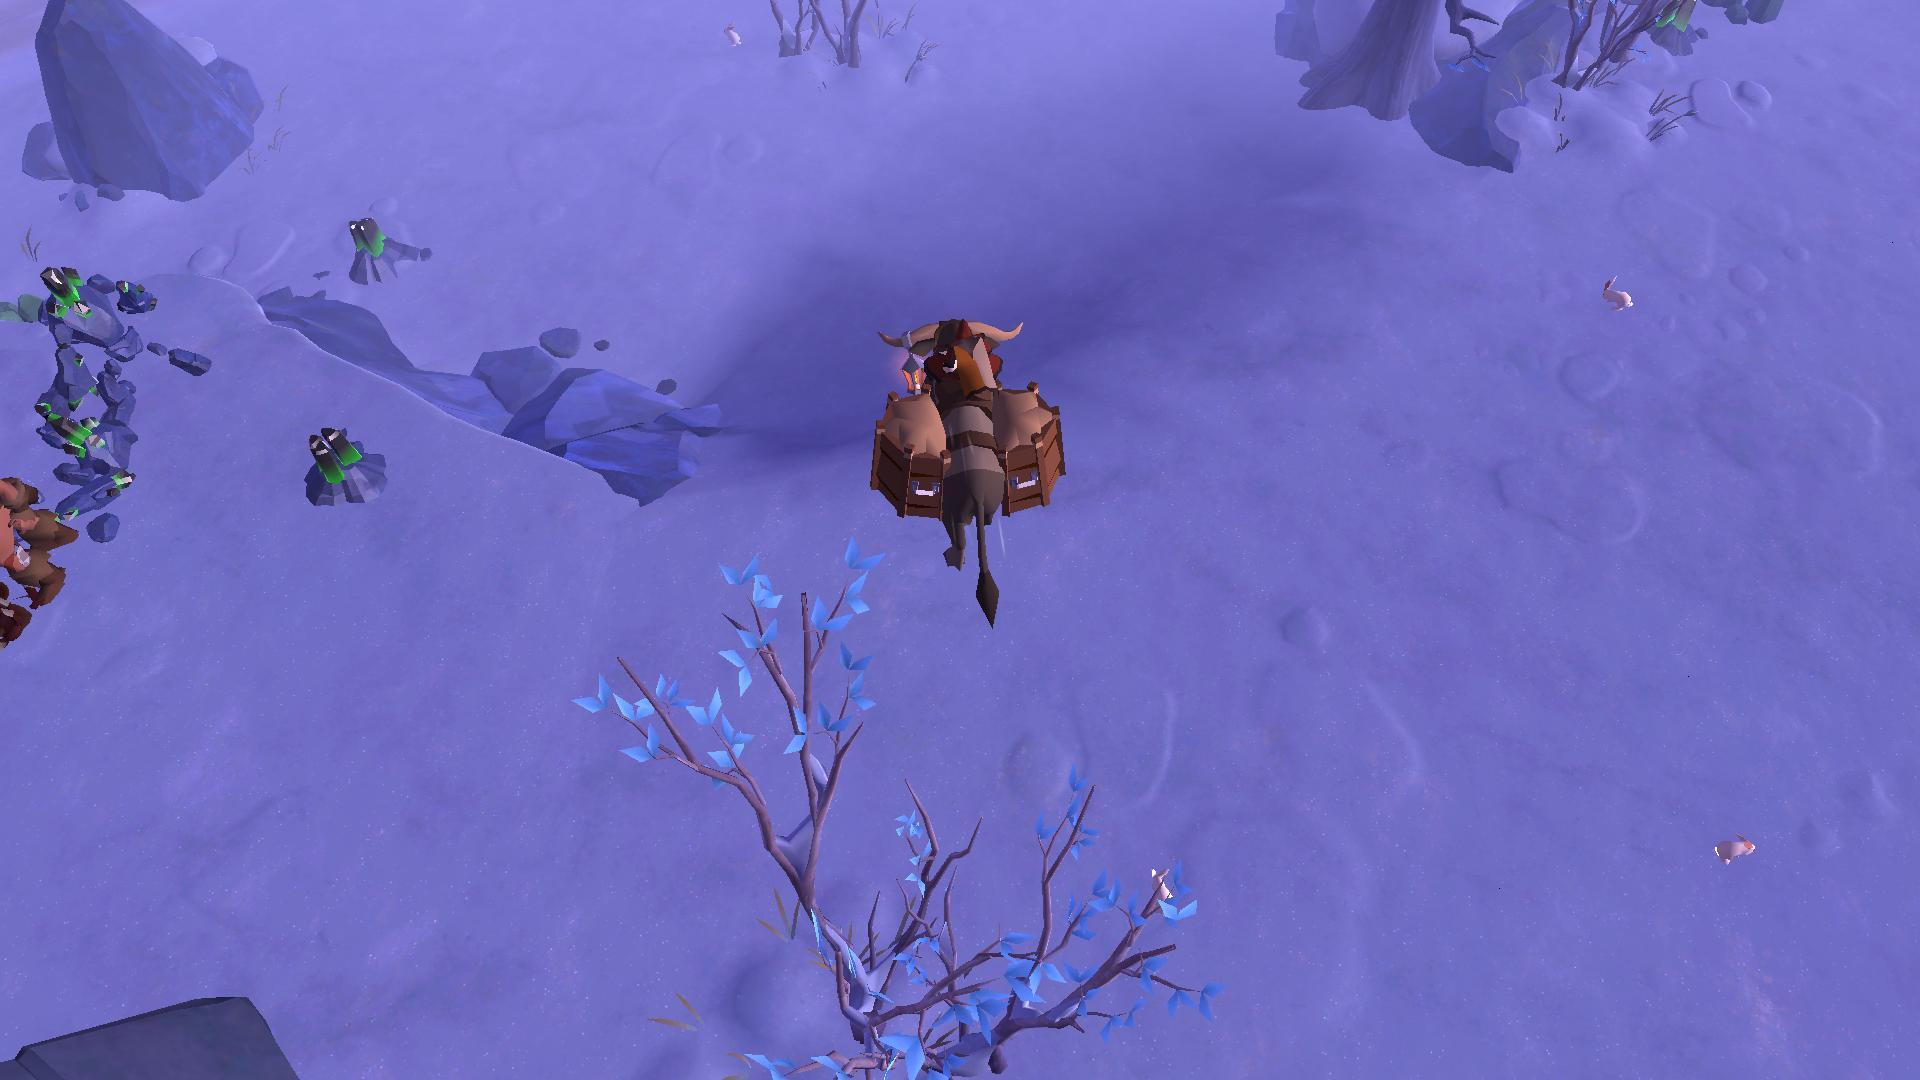depletedmobOre_t3: (22, 402, 152, 543)
enemy_factionKeeper: (0, 468, 74, 622)
mobOre_t3: (32, 245, 218, 419)
ore_t3: (302, 417, 377, 498), (342, 203, 411, 280), (1642, 0, 1709, 58)
